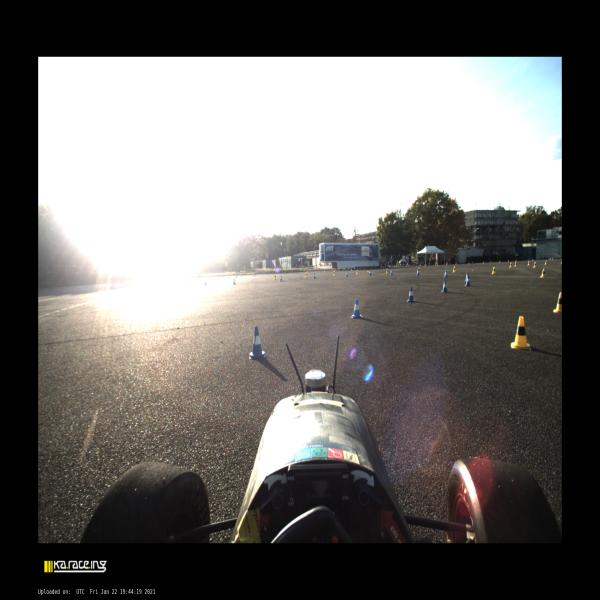blue_cone: (249, 326, 265, 358), (351, 298, 363, 318), (406, 287, 416, 302), (441, 280, 449, 293), (465, 275, 471, 286), (443, 270, 449, 278), (465, 272, 470, 281), (345, 271, 348, 277), (313, 273, 316, 279), (233, 278, 236, 284), (204, 280, 207, 286), (416, 269, 419, 275), (390, 270, 393, 275), (369, 270, 372, 275), (280, 276, 282, 282), (490, 260, 492, 264), (309, 270, 311, 273), (254, 273, 256, 276), (420, 264, 422, 267), (284, 272, 286, 274), (549, 258, 551, 260), (374, 267, 376, 269), (528, 259, 530, 261), (444, 263, 445, 266), (561, 261, 562, 264), (335, 269, 336, 272), (406, 265, 407, 268), (393, 265, 394, 268), (472, 262, 473, 264), (508, 260, 509, 262), (357, 268, 358, 270), (268, 272, 268, 276), (222, 274, 222, 277)
large_orange_cone: (446, 262, 448, 266), (435, 262, 436, 266)
yellow_cone: (511, 316, 531, 350), (554, 292, 562, 313), (540, 268, 546, 278), (492, 267, 496, 274), (452, 266, 456, 272), (533, 261, 536, 268), (514, 261, 517, 267), (509, 262, 512, 268), (274, 274, 277, 280), (544, 260, 547, 265), (333, 270, 335, 276), (356, 269, 358, 275), (386, 268, 388, 274), (528, 261, 530, 266), (305, 272, 307, 277), (236, 274, 238, 279), (210, 275, 212, 279), (222, 274, 224, 278), (419, 267, 420, 273), (324, 269, 326, 272), (499, 260, 501, 263), (397, 266, 399, 269), (419, 263, 421, 266), (228, 276, 229, 280), (241, 274, 243, 276), (253, 274, 255, 276), (291, 272, 293, 274), (468, 262, 470, 264), (370, 266, 371, 270), (351, 268, 352, 271), (425, 264, 426, 267), (437, 263, 438, 266), (483, 261, 484, 264), (273, 272, 274, 275), (552, 258, 553, 260), (532, 259, 533, 261), (383, 267, 384, 269), (411, 266, 412, 268), (456, 262, 456, 265)
